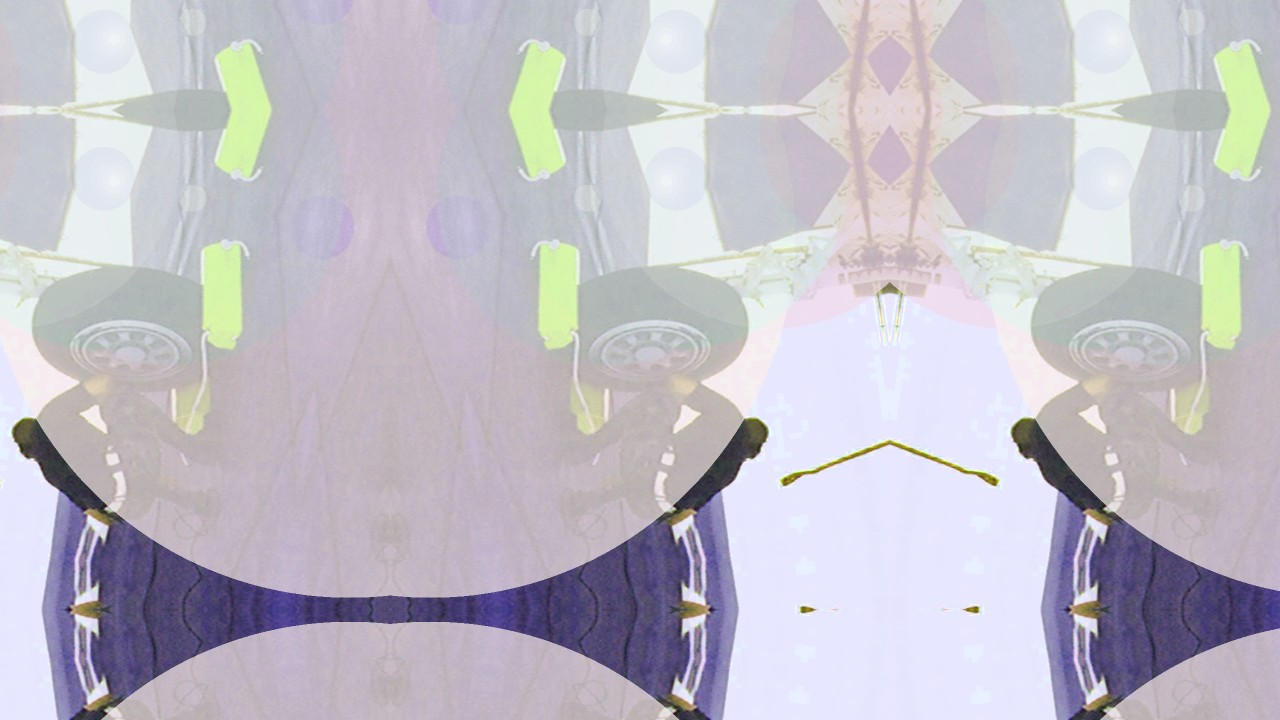chock: (186, 233, 259, 353), (521, 233, 594, 353), (1186, 233, 1259, 353), (165, 340, 220, 442), (560, 340, 615, 442), (1165, 340, 1220, 442), (211, 33, 283, 110), (497, 33, 569, 110), (211, 110, 283, 187), (497, 110, 569, 187), (1211, 33, 1280, 110), (1211, 110, 1280, 187)
wheel: (23, 254, 218, 404), (562, 254, 757, 404), (1023, 254, 1218, 404)
